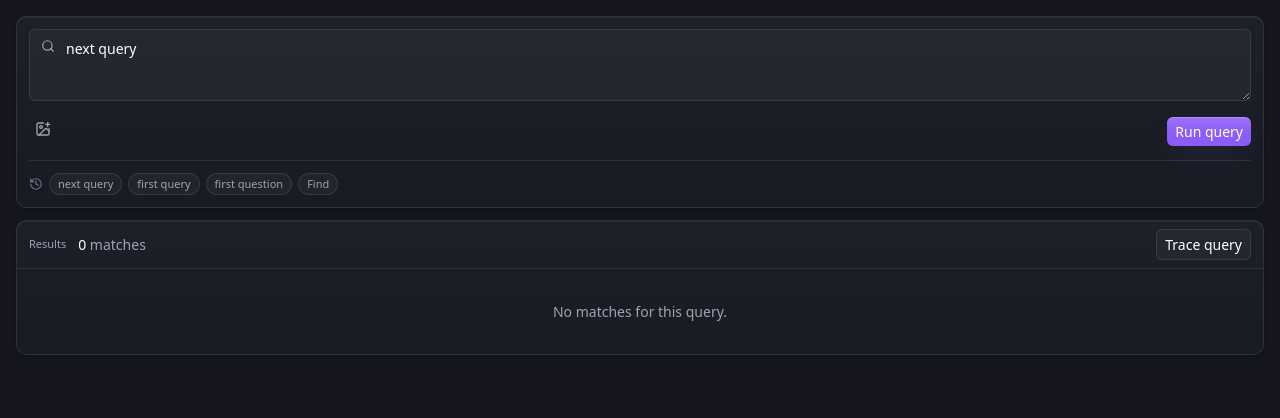
Test case: CollectionSearch › surfaces query failures, with a fallback for non-error rejections
Replace the text in the text box named "Search query" with "Find" at (640, 65), box [29,29,1251,101]
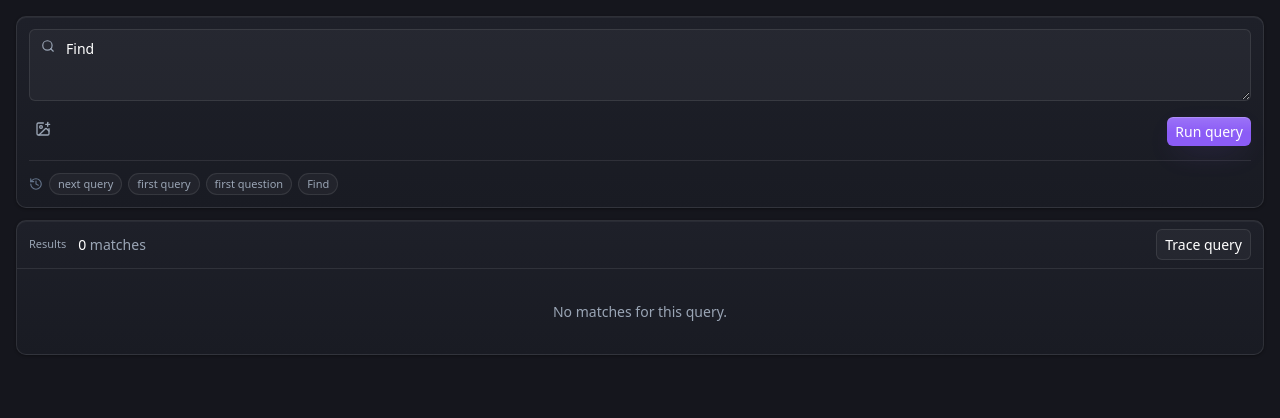
Click the button "Run query" at (1209, 131), box [1167,116,1251,146]
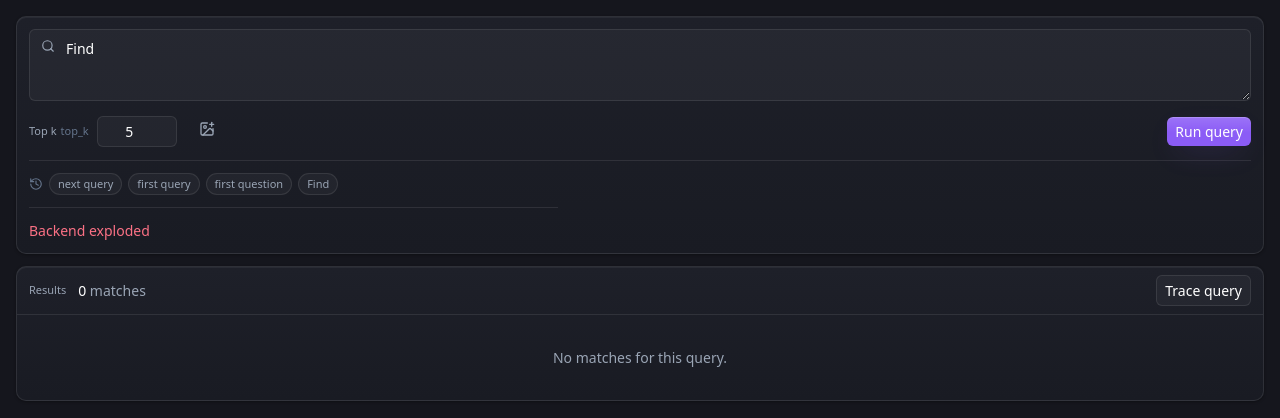
Expected: the text "Backend exploded" is shown, [29,207,558,241]
Replace the text in the text box named "Search query" with "again" at (640, 65), box [29,29,1251,101]
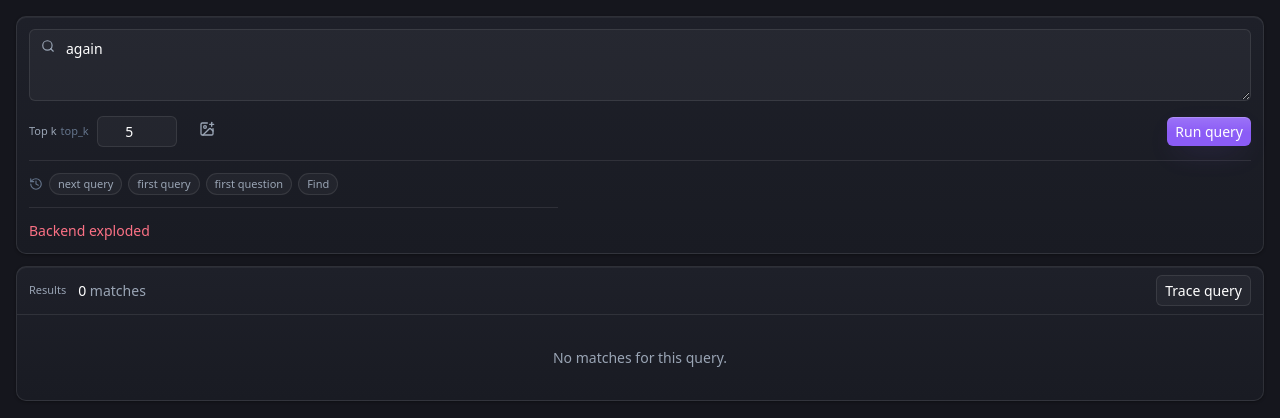
Click the button "Run query" at (1209, 131), box [1167,116,1251,146]
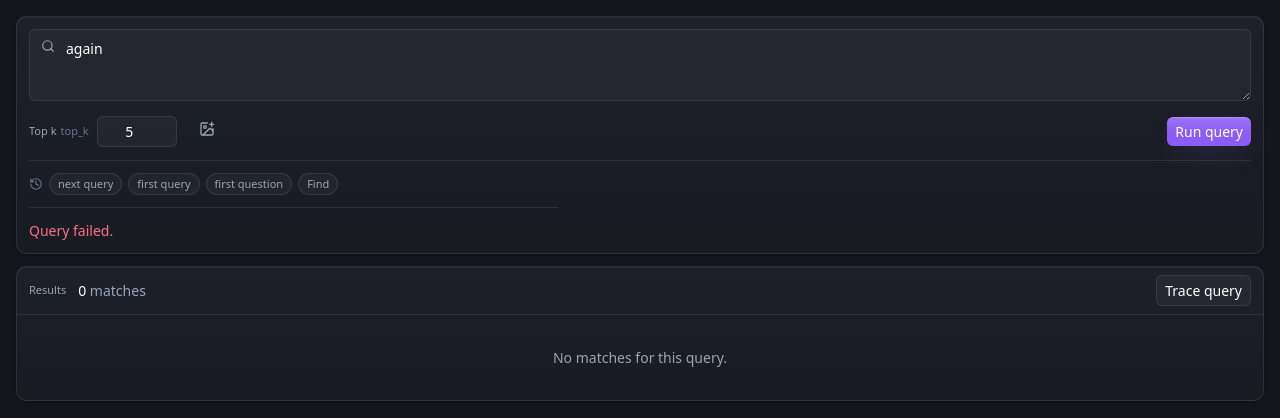
Expected: the text "Query failed." is shown, [29,207,558,241]
